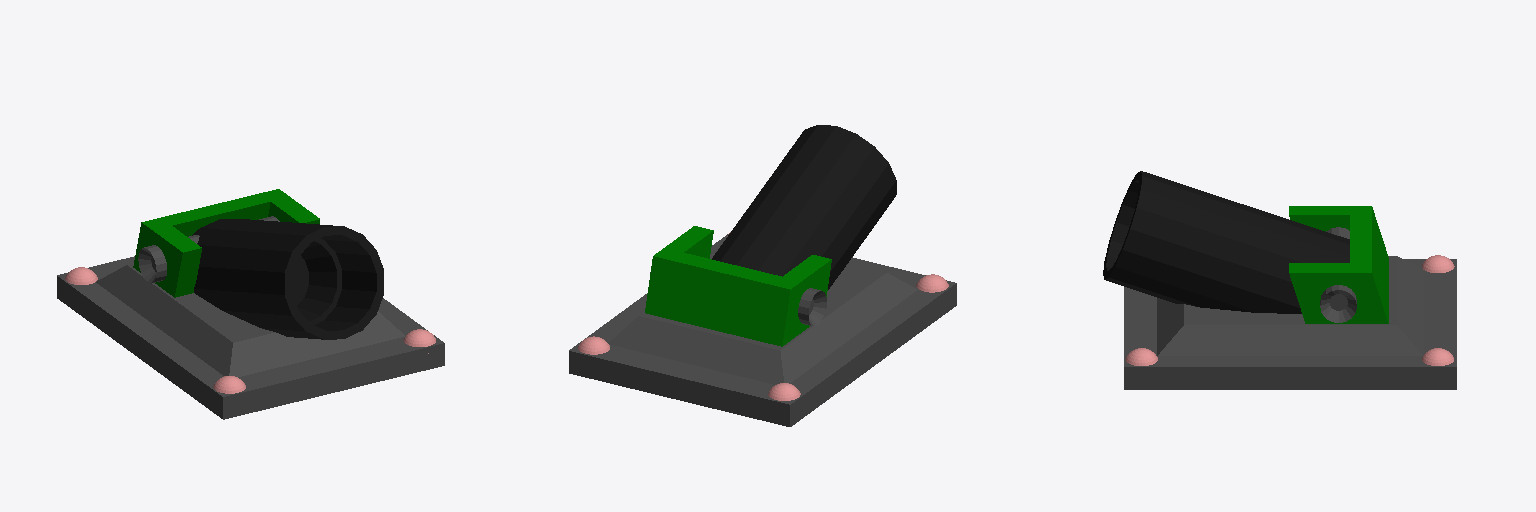
Rendered from BouncyBombCannon.obj.
3 views of the same model, side by side, from view 1: azimuth 30°, elevation 25°; view 2: azimuth 150°, elevation 25°; view 3: azimuth 270°, elevation 25° (orthographic).
Visible parts, largest first — view 1: Box001, Cylinder005, C_Ext001, Cylinder006; view 2: Box001, Cylinder005, C_Ext001, Cylinder006; view 3: Box001, Cylinder005, C_Ext001, Cylinder006.
Boxes of the visible parts, <box> form: Box001: <box>57,256,444,419</box>; Cylinder005: <box>192,219,383,339</box>; C_Ext001: <box>133,189,319,297</box>; Cylinder006: <box>138,216,279,283</box>; Box001: <box>569,234,956,426</box>; Cylinder005: <box>712,125,896,289</box>; C_Ext001: <box>645,226,831,346</box>; Cylinder006: <box>650,272,826,326</box>; Box001: <box>1124,256,1456,389</box>; Cylinder005: <box>1103,171,1349,313</box>; C_Ext001: <box>1289,206,1388,323</box>; Cylinder006: <box>1320,227,1356,322</box>.
Size of the model in its own units: 28.55 by 19.6 by 39.45.